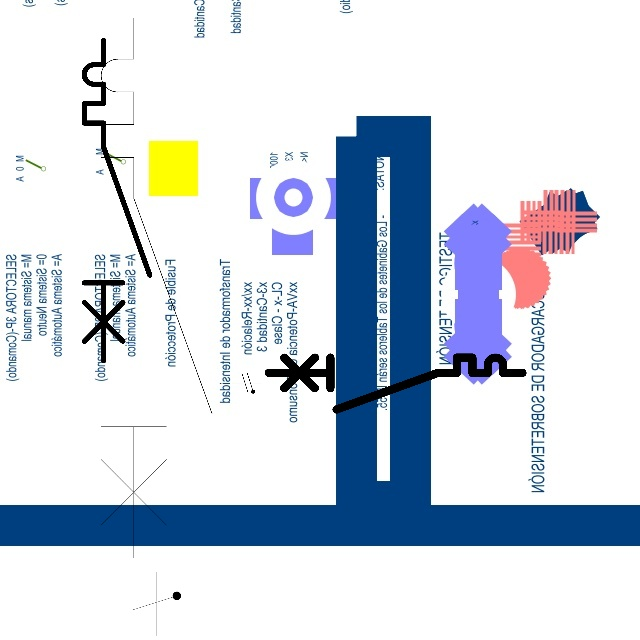interruptor_termomagnetico: (87, 4, 226, 571), (76, 32, 158, 369), (262, 351, 529, 416)
